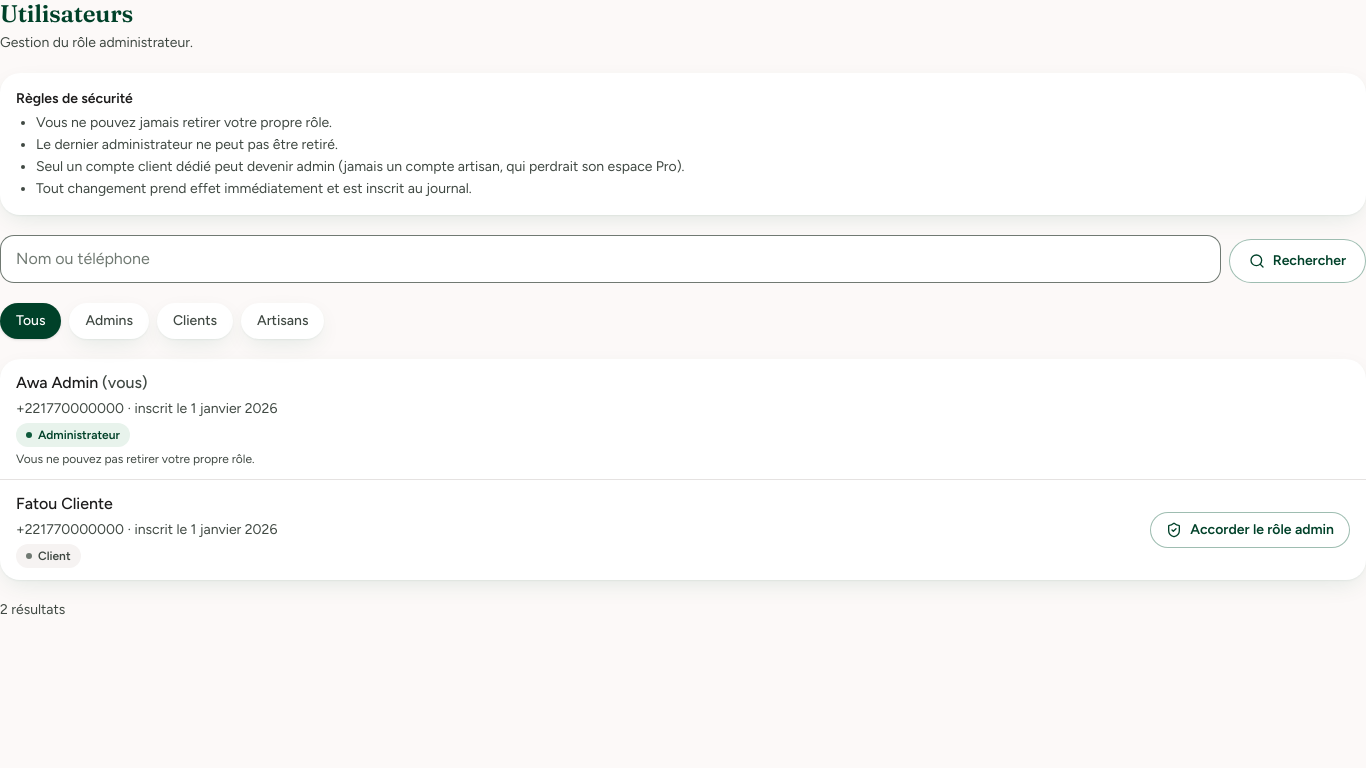
it: AdminUsersScreen › accorde le rôle après confirmation puis recharge la liste
Later steps or results of the test are not shown.
Check: the text "Fatou Cliente" is shown, box left=16, top=494, right=113, bottom=513
Click the button "Accorder le rôle admin".
click(1250, 530)  # box left=1150, top=512, right=1350, bottom=548
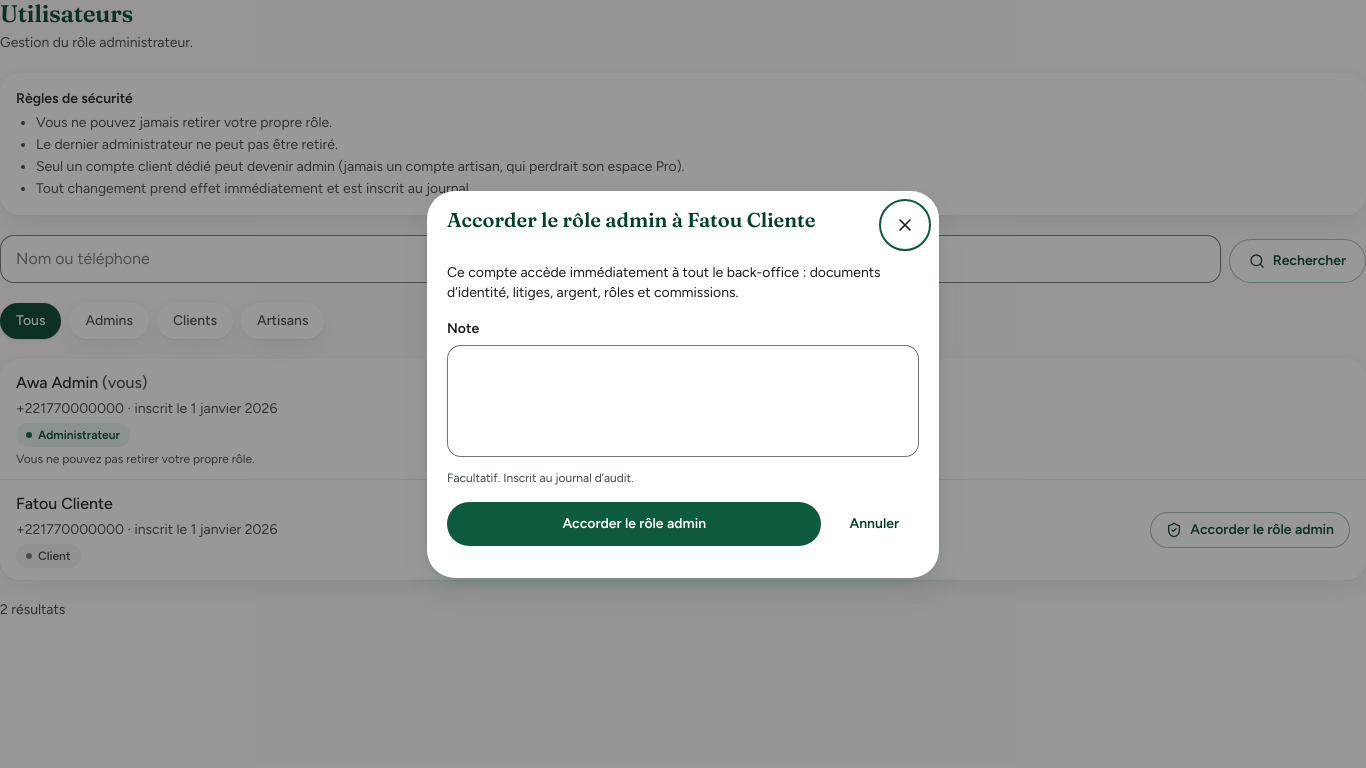
Check: the text "accède immédiatement à tout le back-office" is shown, box left=447, top=264, right=880, bottom=300
